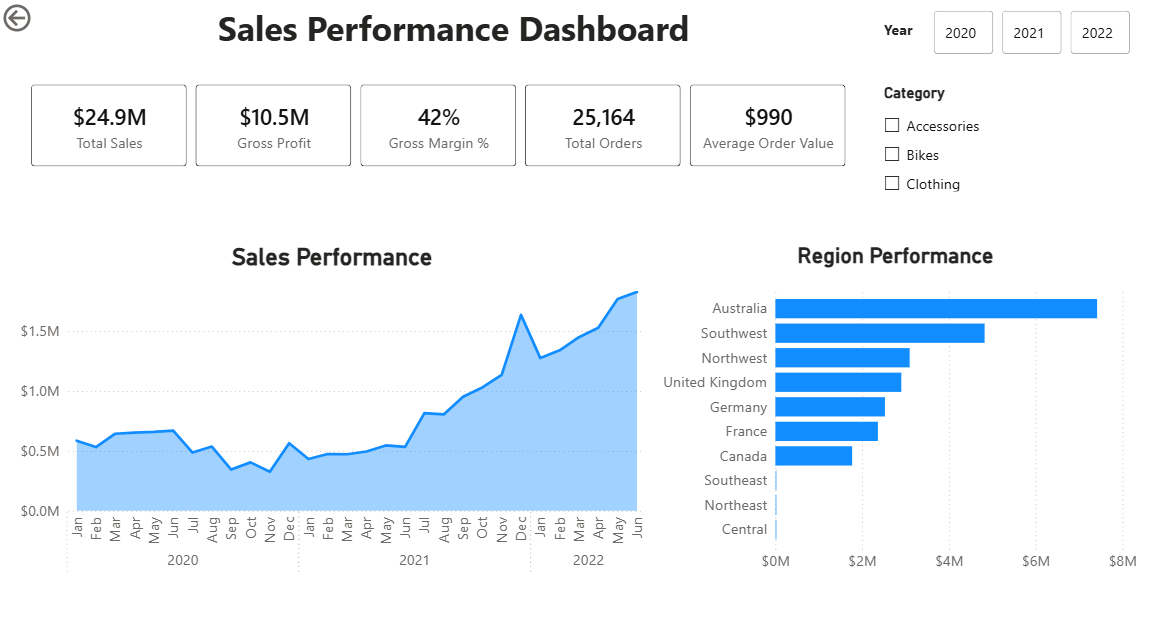

What the dashboard file says about the page in this screenshot:
{"tool":"powerbi","page":{"name":"Executive Sales","canvas":[1280,720],"ordinal":0},"visuals":[{"type":"cardVisual","fields":{"Data":["Sales2022.TotalSales","Sales.Gross Profit","Sales.Gross Margin %","Sales.Total Orders","Sales.Average Order Value"]},"box":[19.1,76.3,943.2,125.7],"z":0},{"type":"textbox","box":[48.3,0,913.3,76.7],"z":1000},{"type":"areaChart","title":"Sales Performance","fields":{"Category":["Calendar.Year","Calendar.MonthName"],"Y":["Sales.Total Sales"]},"box":[18.8,270,703.8,376.2],"z":2000},{"type":"clusteredBarChart","title":"Region Performance","fields":{"Category":["Territories.Region"],"Y":["Sales2022.Total Sales"]},"box":[723.7,270.4,545.6,375.4],"z":3000},{"type":"actionButton","box":[0,0,100,40],"z":4000},{"type":"advancedSlicerVisual","title":"Year","fields":{"Values":["Calendar.Year"]},"box":[1033.9,6.4,230,58.3],"z":5000},{"type":"listSlicer","title":"Category","fields":{"Values":["ProductCategories.CategoryName"]},"box":[978.2,93.8,275.4,125.5],"z":6000},{"type":"textbox","box":[978.2,15.9,55.7,41.4],"z":7000}]}

Visuals, with their boxes in screenshot pixels (x1, y1, x2, y2), scaled from the page's 1280x720 canvas onto the 1149x640 screenshot:
cardVisual - Sales2022.TotalSales x Sales.Gross Profit: select_region(17, 68, 864, 180)
textbox: select_region(43, 0, 863, 68)
"Sales Performance" areaChart: select_region(17, 240, 649, 574)
"Region Performance" clusteredBarChart: select_region(650, 240, 1139, 574)
actionButton: select_region(0, 0, 90, 36)
"Year" advancedSlicerVisual: select_region(928, 6, 1135, 58)
"Category" listSlicer: select_region(878, 83, 1125, 195)
textbox: select_region(878, 14, 928, 51)
